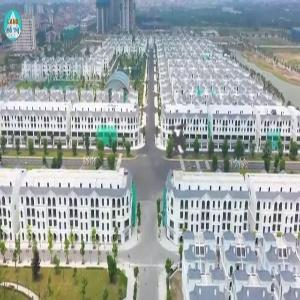drone: (136, 100, 224, 188)
